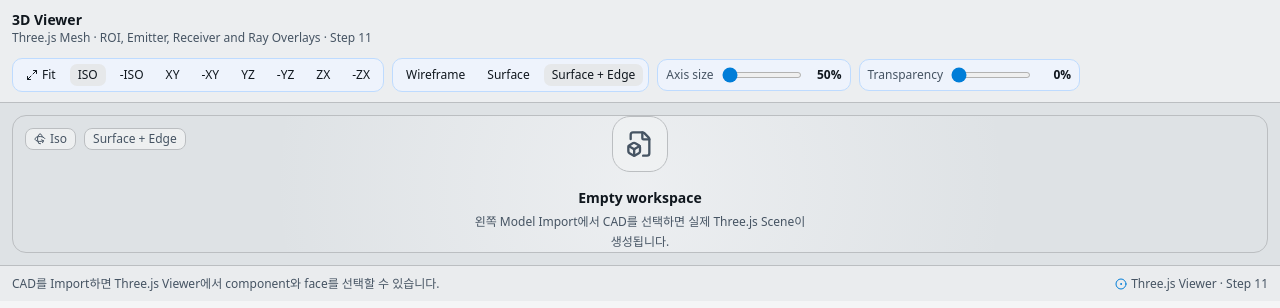
Test: ViewerWorkspace display controls › enables surface transparency only for surface render modes
Set the slider named "Surface transparency" to "45". click: coordinates (993, 75)
box: [951,72,1031,78]
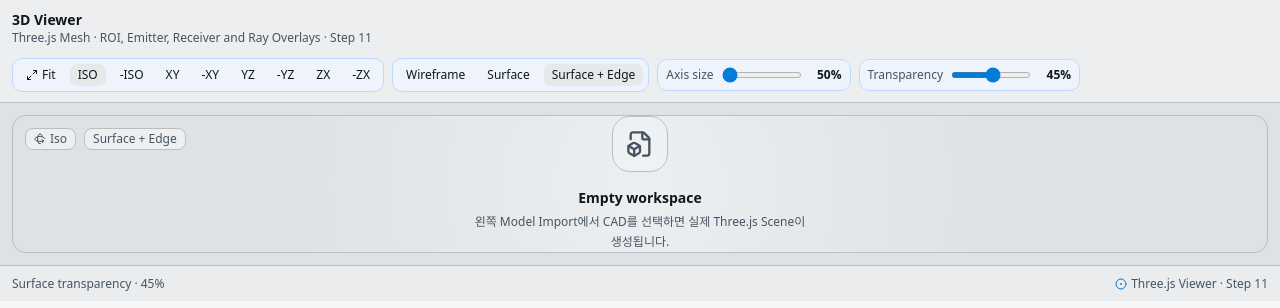
Click the button "Wireframe". click: coordinates (436, 75)
box: [397,63,474,87]
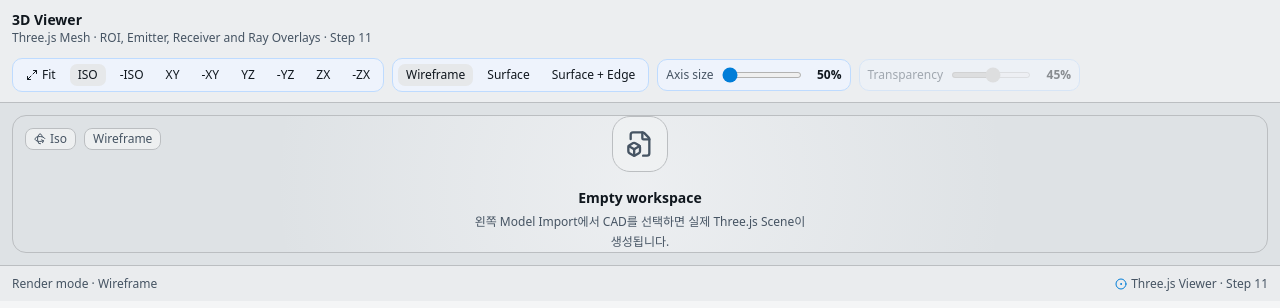
Result: the slider named "Surface transparency" is disabled at [951,72,1031,78]
Click the button "Surface". click: coordinates (508, 75)
box: [478,63,539,87]
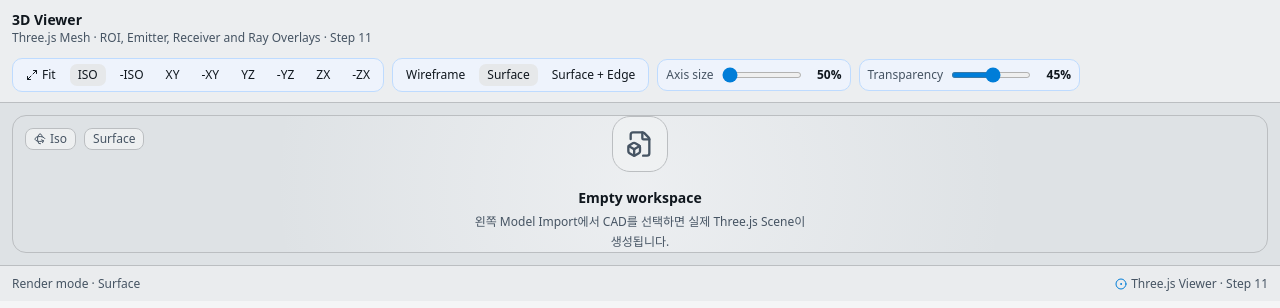
Result: the slider named "Surface transparency" is enabled at [951,72,1031,78]
